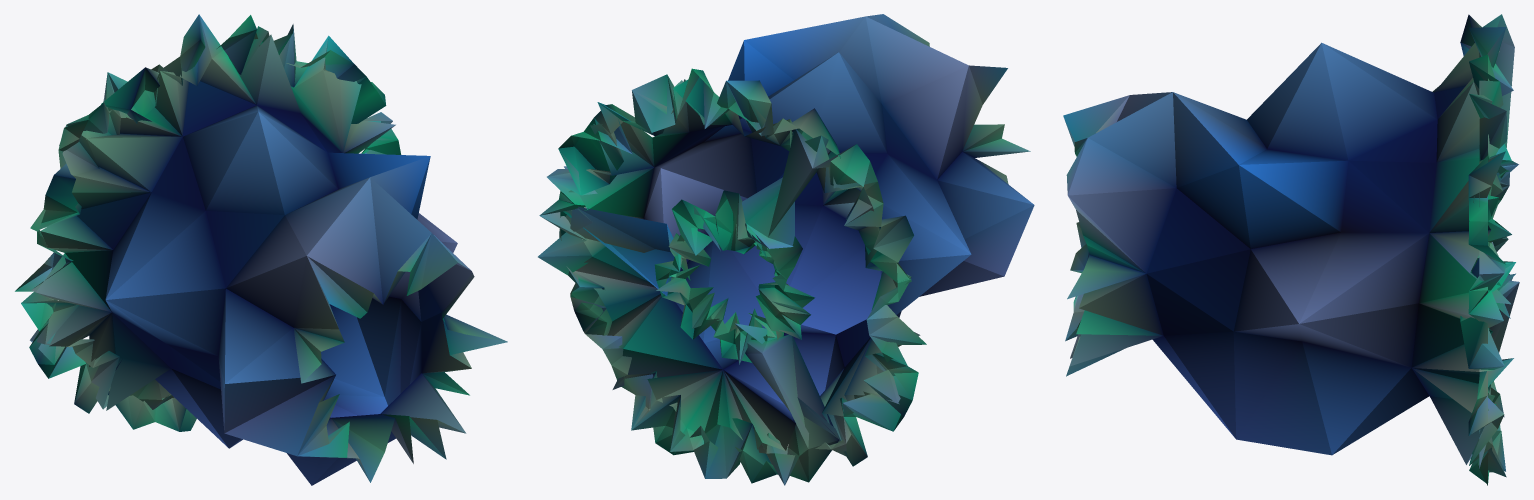
Rendered from lamp_shade_2_final300.obj.
3 views of the same model, side by side, from view 1: azimuth 30°, elevation 25°; view 2: azimuth 150°, elevation 25°; view 3: azimuth 270°, elevation 25° (orthographic). The views are drawn at different scales.
Size of the model in its own units: 1.25 by 1.27 by 1.2.
